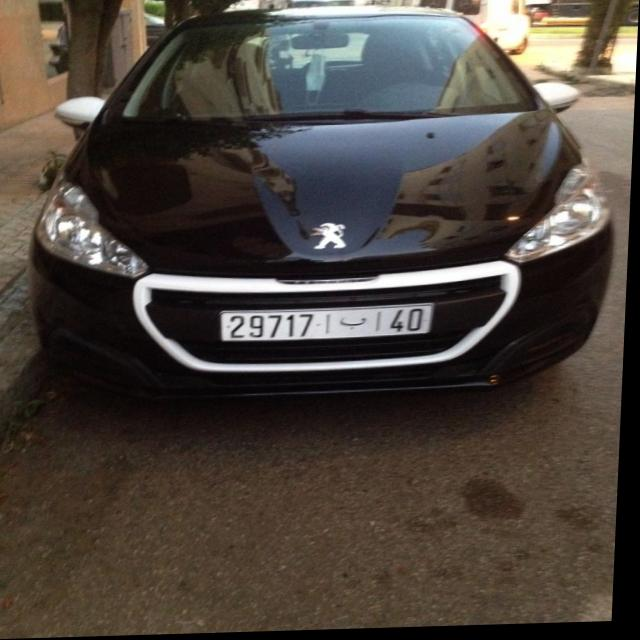License-Plate: (223, 307, 437, 343)
